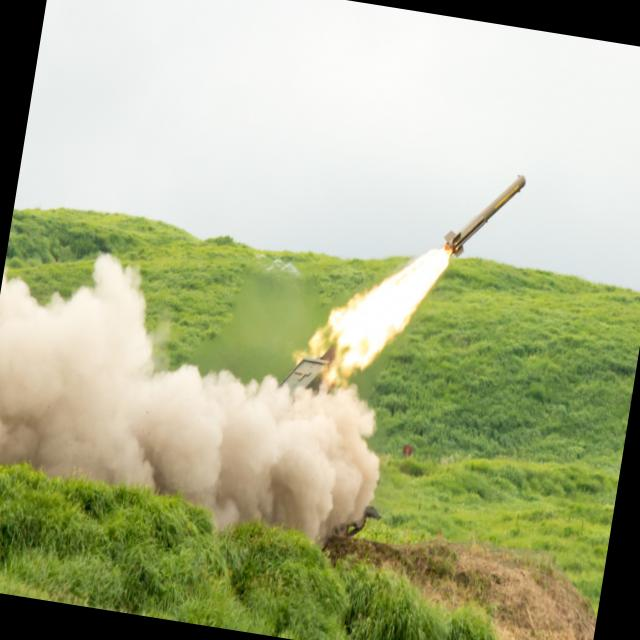rocket: (347, 145, 528, 400)
